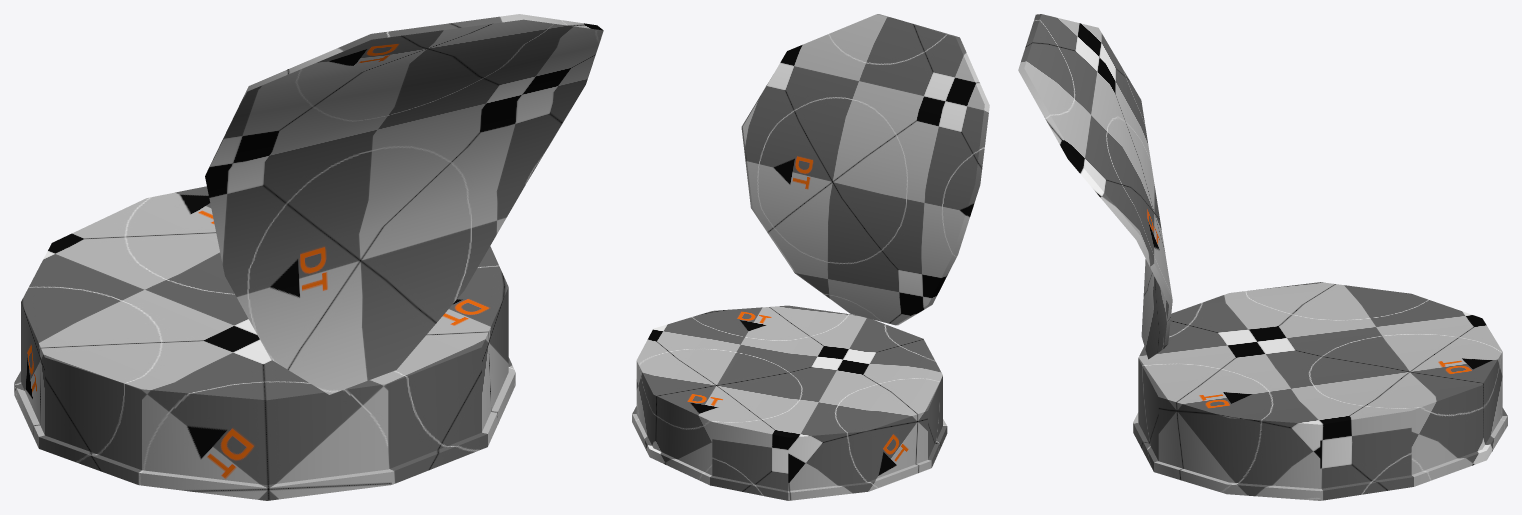
Rendered from conserve_fine.FBX.
The picture shows the model from 3 angles, left to right: view 1: azimuth 30°, elevation 25°; view 2: azimuth 150°, elevation 25°; view 3: azimuth 270°, elevation 25°; orthographic projection. The views are drawn at different scales.
Parts seen in each view (by area): view 1: Conserve_fine; view 2: Conserve_fine; view 3: Conserve_fine.
Part boxes in pixels (box(x1,y1,x2,y2)): Conserve_fine: box(14, 14, 603, 500); Conserve_fine: box(632, 14, 989, 500); Conserve_fine: box(1018, 14, 1507, 500).
Size of the model in its own units: 12.05 by 13.22 by 15.1.
Materials: 1 (1 with a texture image).
